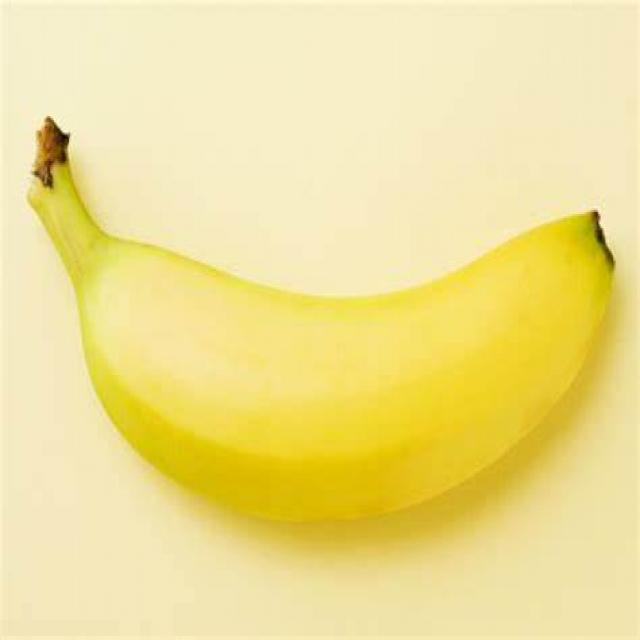Banana: (23, 118, 620, 523)
